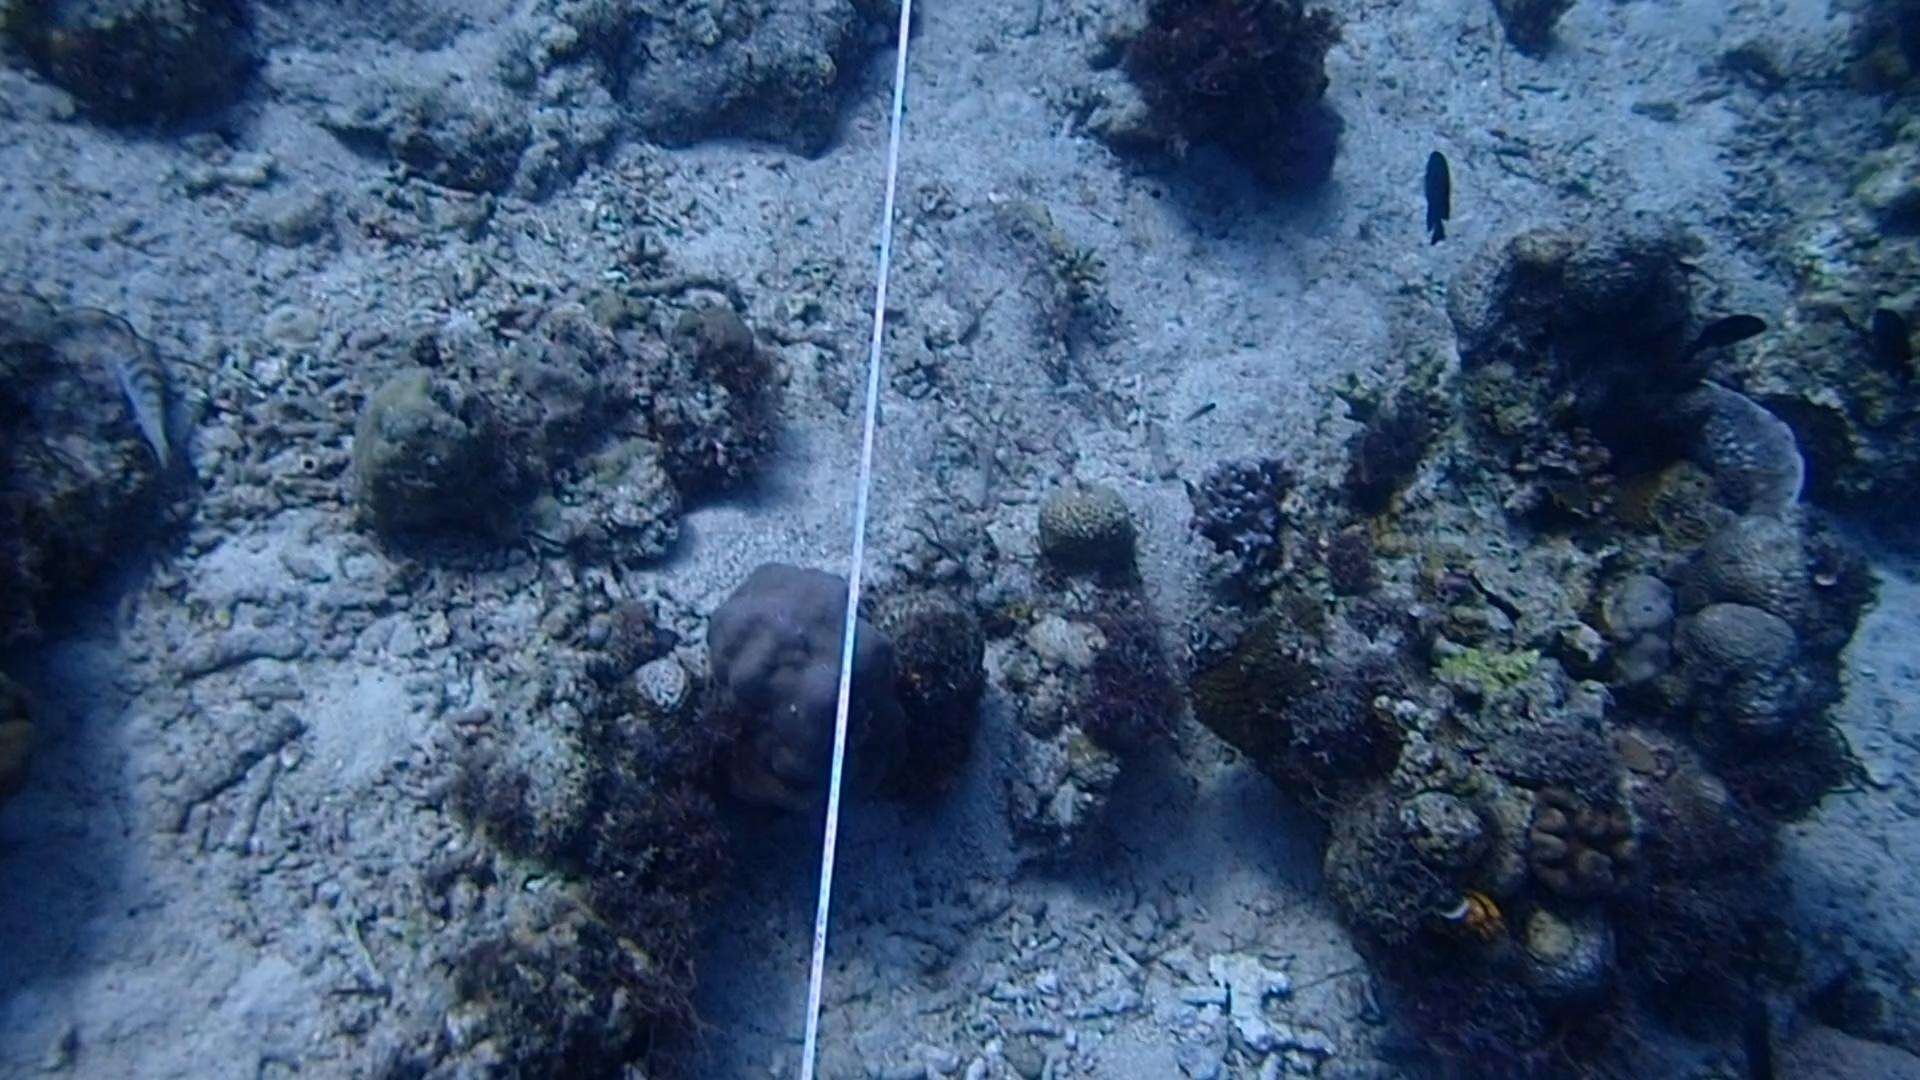Dark Fish: (1663, 276, 1784, 381), (1398, 138, 1476, 247), (1858, 287, 1920, 405)
Light Fish w Back Stripes: (91, 334, 187, 465)
